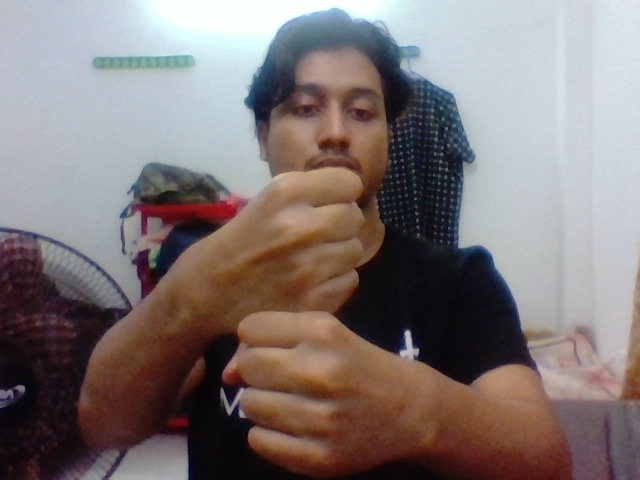G: (199, 162, 394, 478)
